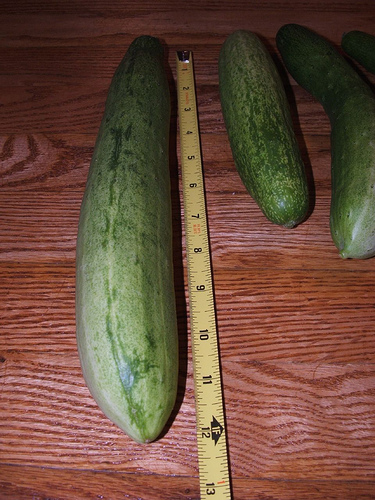cucumber: (77, 33, 185, 443), (275, 20, 373, 260), (216, 26, 315, 231)
